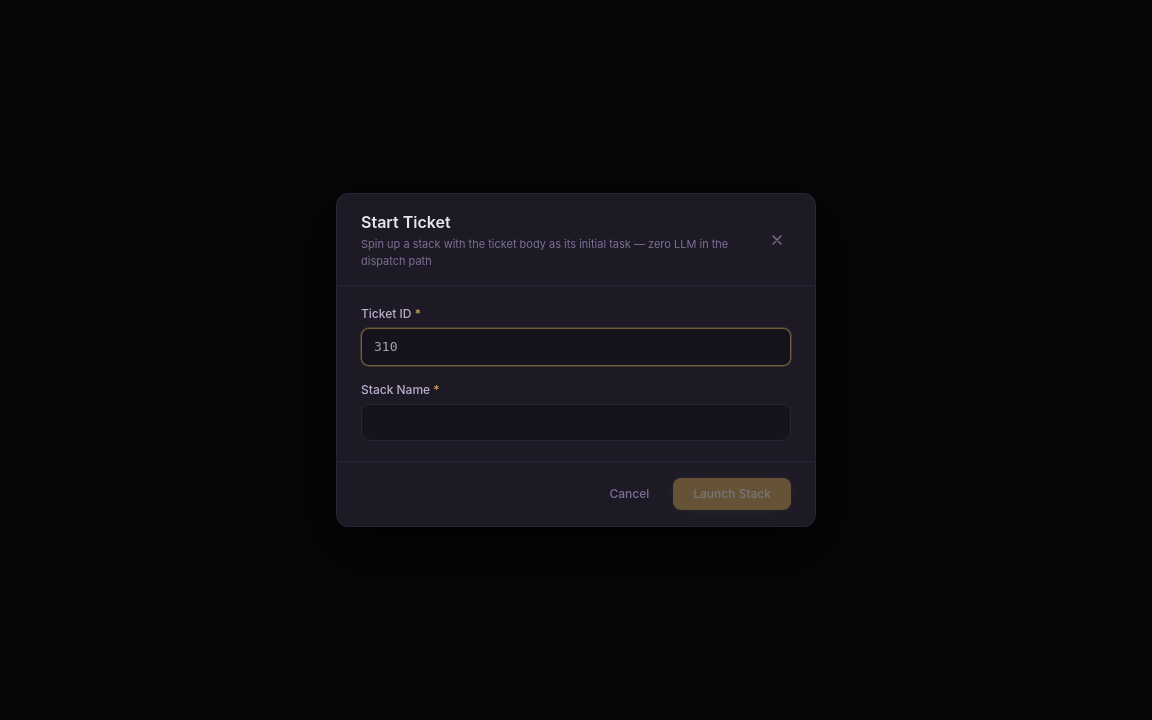
Test: StartTicketDialog › surfaces an error from tickets.fetch and stays open
This screenshot has width=1152, height=720.
Type "999" into the field with test id "start-ticket-id". click: (576, 347)
box: [361, 328, 791, 366]
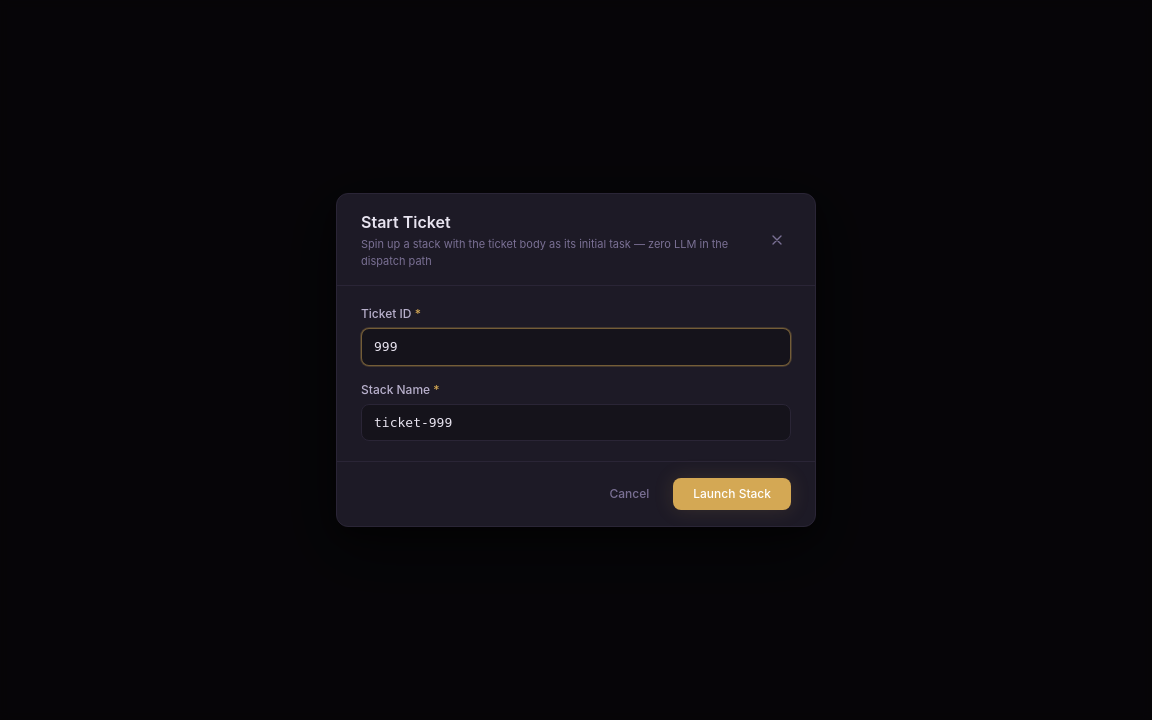
Click the button with test id "start-ticket-launch". click: (732, 494)
box: [673, 478, 791, 510]
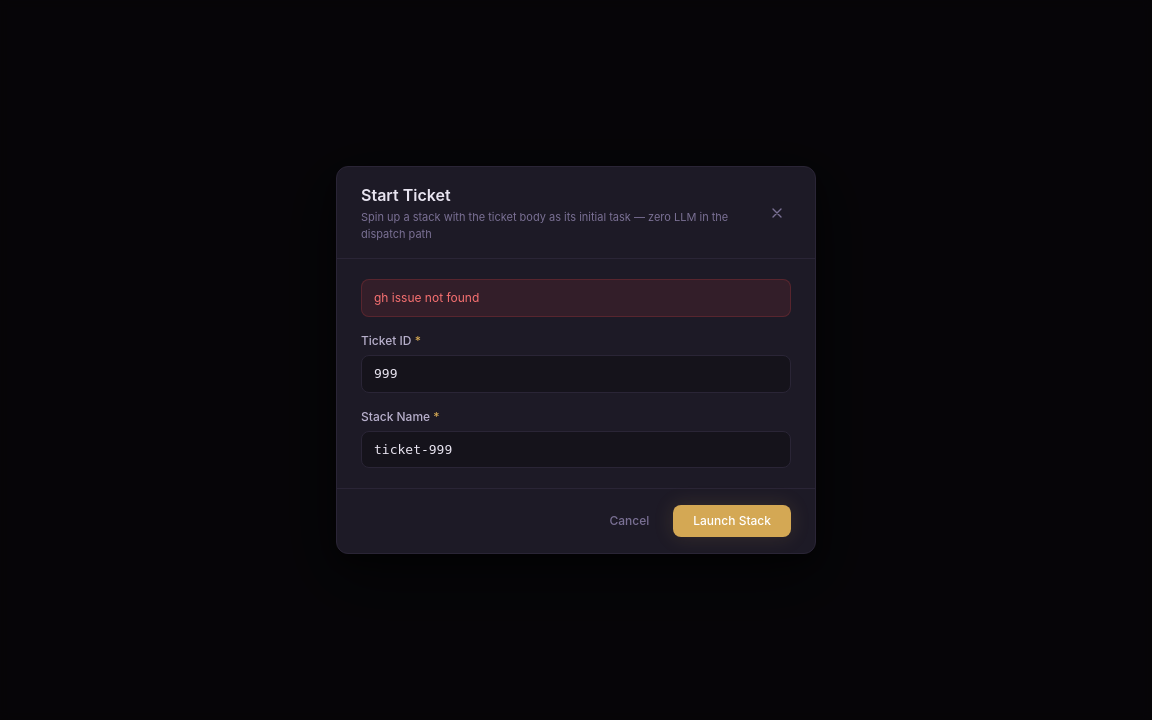
Result: the text with test id "start-ticket-error" reads "gh issue not found" at [374, 290, 479, 305]
